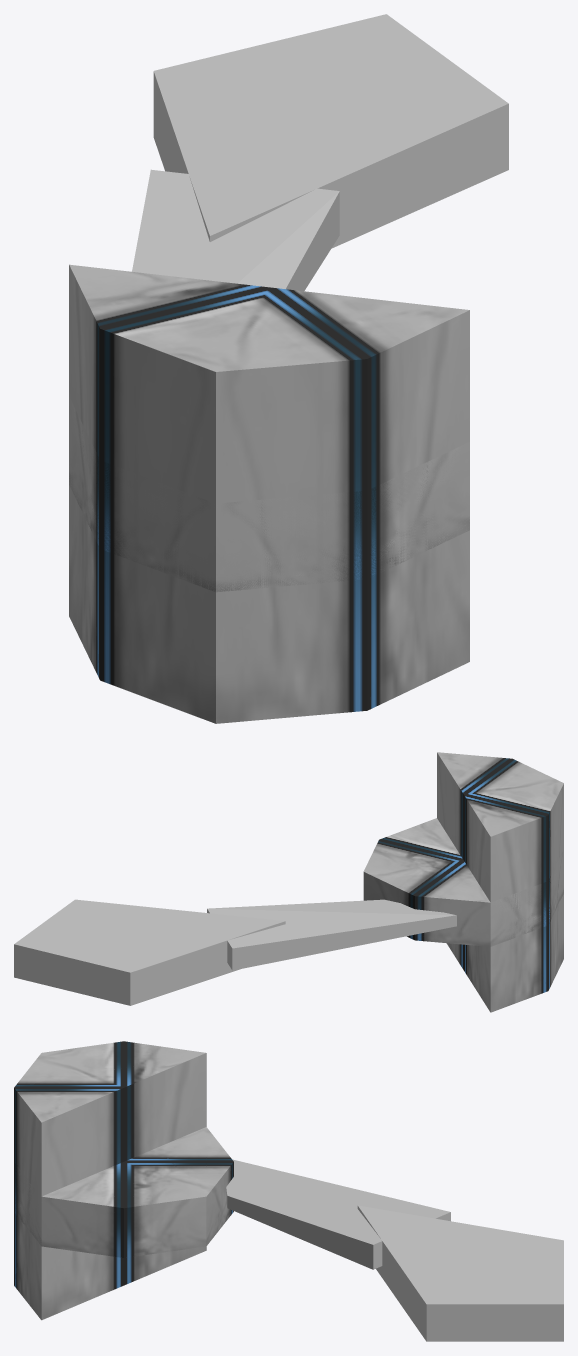
3 renders of one model, top to bottom at view 1: azimuth 30°, elevation 25°; view 2: azimuth 150°, elevation 25°; view 3: azimuth 270°, elevation 25°, orthographic. The views are drawn at different scales.
Visible parts, largest first — view 1: entity0_brush1, entity0_brush2, entity0_brush0, entity0_brush3; view 2: entity0_brush1, entity0_brush2, entity0_brush0, entity0_brush3; view 3: entity0_brush1, entity0_brush2, entity0_brush0, entity0_brush3.
Part boxes in pixels (x1,y1,x2,y2): entity0_brush1: (69,264,469,723); entity0_brush2: (153,14,508,248); entity0_brush0: (69,396,469,592); entity0_brush3: (132,169,339,291); entity0_brush1: (437,752,563,1012); entity0_brush2: (14,899,285,1005); entity0_brush0: (363,818,563,946); entity0_brush3: (207,899,456,970); entity0_brush1: (14,1041,206,1320); entity0_brush2: (357,1205,563,1341); entity0_brush0: (14,1127,233,1257); entity0_brush3: (226,1159,450,1269).
Bounding box in the file's own units: 256 × 127 × 320.
